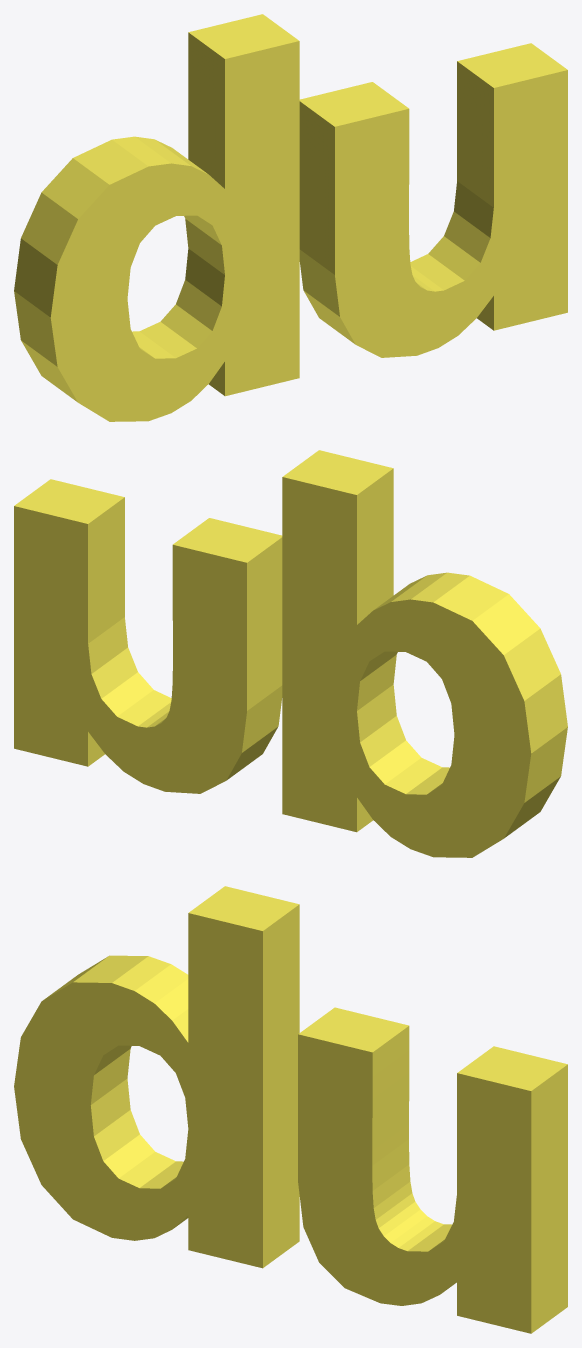
Rendered from suku_kecil_du.glb.
3 views of the same model, one above another, from view 1: azimuth 30°, elevation 25°; view 2: azimuth 150°, elevation 25°; view 3: azimuth 330°, elevation 25° (orthographic).
Visible parts, largest first — view 1: geometry_0; view 2: geometry_0; view 3: geometry_0.
Part boxes in pixels (bbox=[...]): geometry_0: bbox=[14, 14, 567, 421]; geometry_0: bbox=[14, 450, 567, 857]; geometry_0: bbox=[14, 886, 567, 1333].
Bounding box in the file's own units: 12.2 × 7.74 × 1.5.
